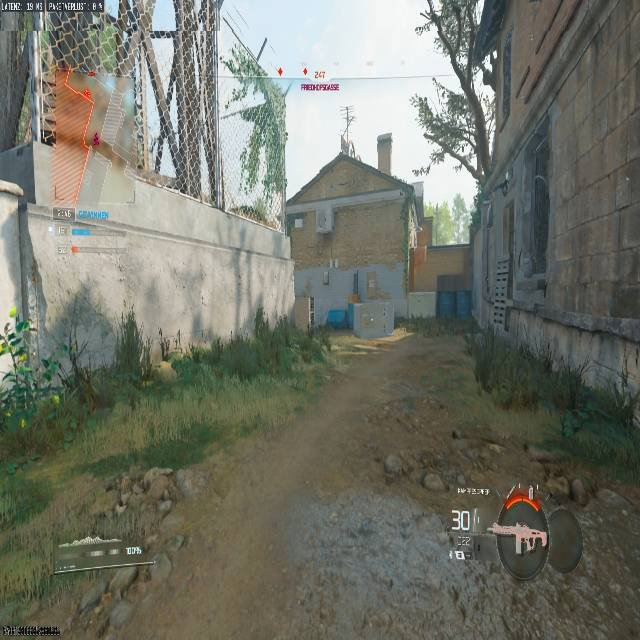player: (491, 297, 506, 332)
